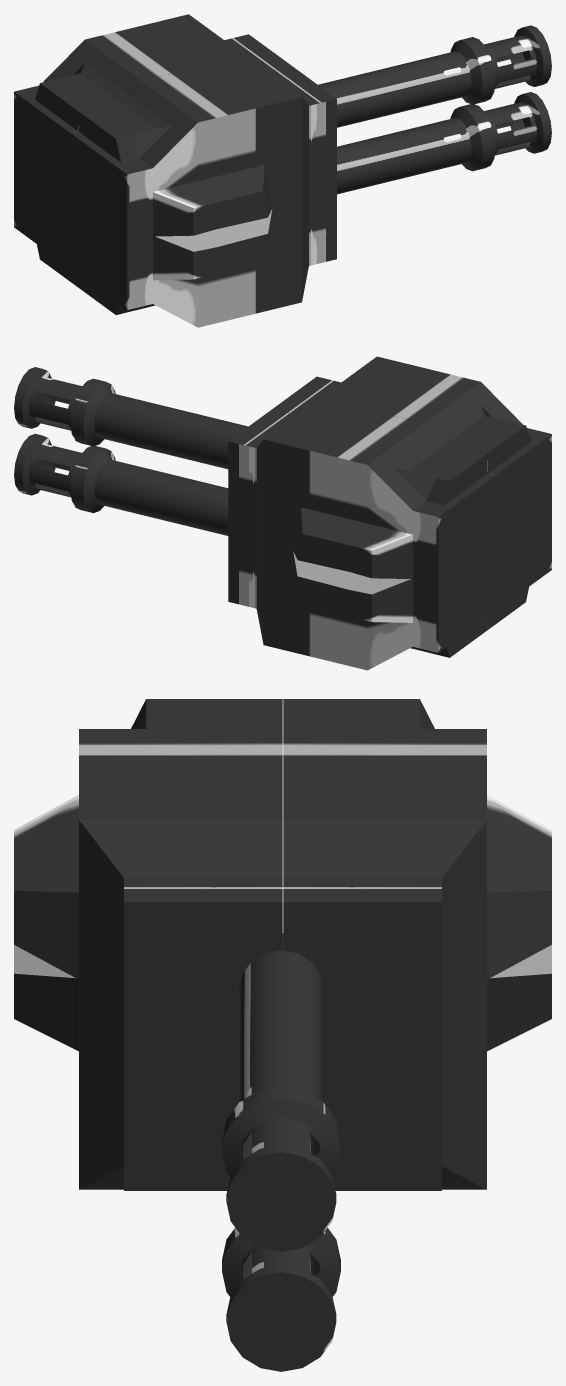
The model's file is turret_4_3.glb.
3 renders of one model, top to bottom at view 1: azimuth 30°, elevation 25°; view 2: azimuth 150°, elevation 25°; view 3: azimuth 270°, elevation 25°, orthographic. The views are drawn at different scales.
Visible parts, largest first — view 1: Turret3, Cannon.002, Cannon.001; view 2: Turret3, Cannon.002, Cannon.001; view 3: Turret3, Cannon.002, Cannon.001.
Boxes of the visible parts, left/top/right/bottom form: Turret3: left=14, top=14, right=336, bottom=327; Cannon.002: left=318, top=25, right=551, bottom=127; Cannon.001: left=337, top=92, right=551, bottom=194; Turret3: left=228, top=356, right=551, bottom=670; Cannon.002: left=14, top=367, right=247, bottom=469; Cannon.001: left=14, top=433, right=228, bottom=535; Turret3: left=14, top=699, right=551, bottom=1190; Cannon.002: left=222, top=933, right=340, bottom=1251; Cannon.001: left=222, top=1228, right=340, bottom=1371.
Size of the model in its own units: 4.04 by 1.7 by 2.24.
5 materials, 5 textured.
